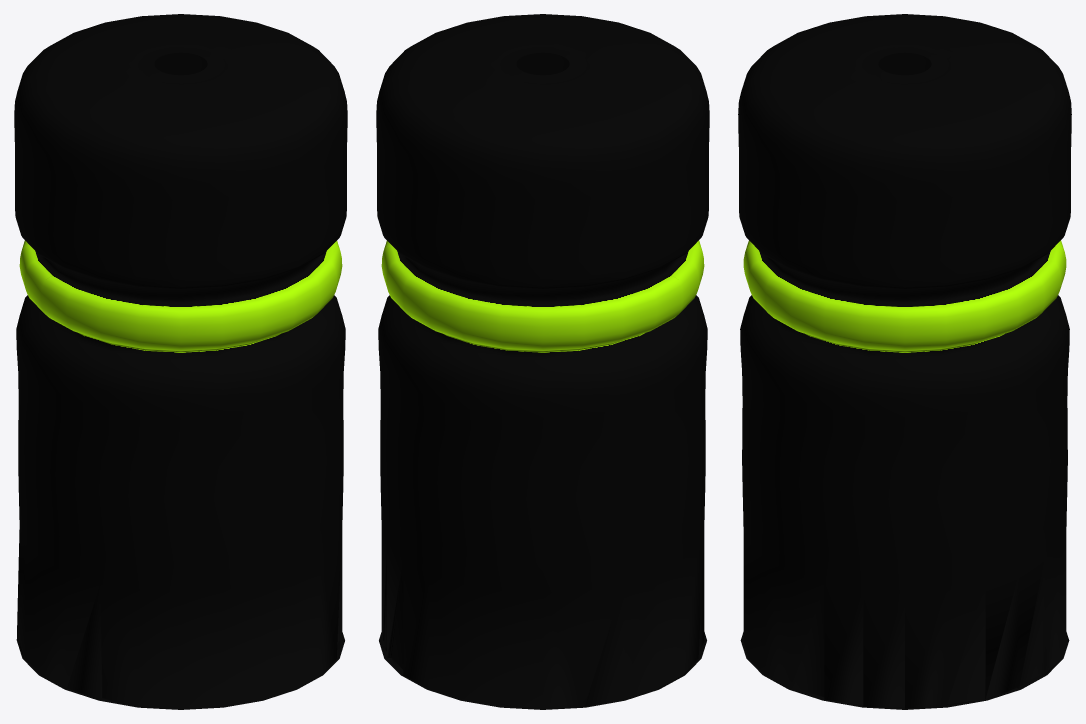
File: bulardo.obj
3 views of the same model, side by side, from view 1: azimuth 30°, elevation 25°; view 2: azimuth 150°, elevation 25°; view 3: azimuth 270°, elevation 25° (orthographic).
Parts seen in each view (by area): view 1: bulardo_Material.001; view 2: bulardo_Material.001; view 3: bulardo_Material.001.
Part boxes in pixels (x1,y1,x2,y2): bulardo_Material.001: (14,14,347,709); bulardo_Material.001: (376,14,709,709); bulardo_Material.001: (738,14,1071,709).
Size of the model in its own units: 1.67 by 3.18 by 1.67.
Materials: 1 (1 with a texture image).
